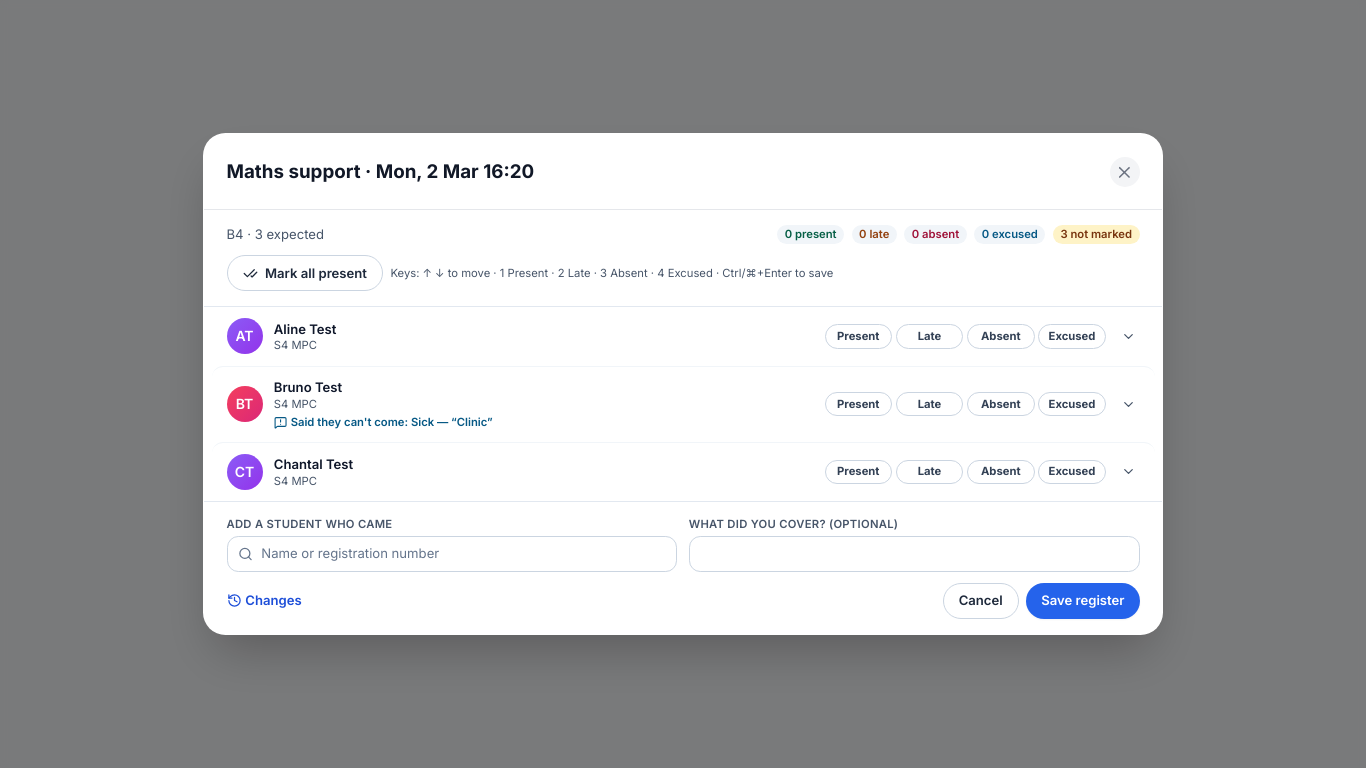
Test case: office-hours register › adds a walk-in as a present drop-in
Check: the text "Aline Test" is shown, box [274,320,336,336]
Type "Wa" into the field labelled "Add a student who came" at [452, 554], box [226,536,677,572]
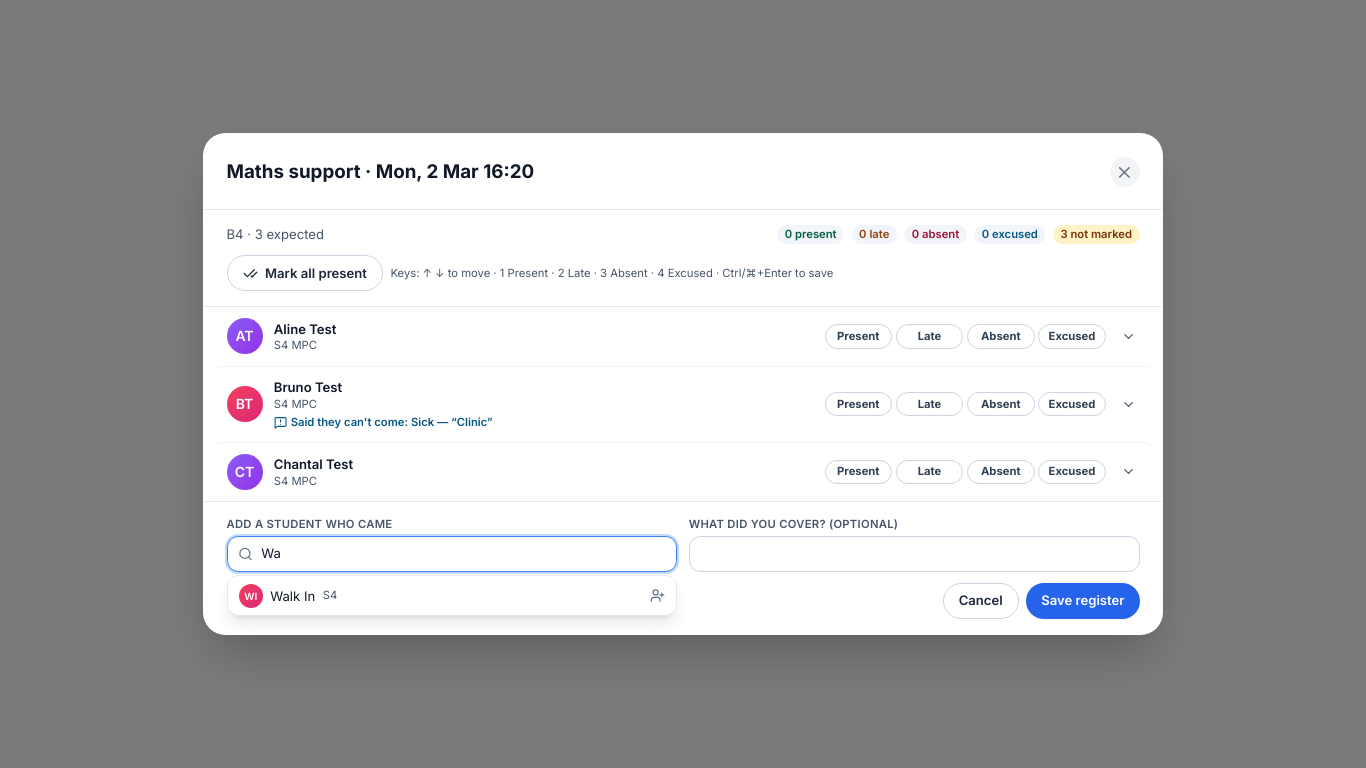
Click the button "WI Walk In S4" at [293, 596], box [228,576,676,615]
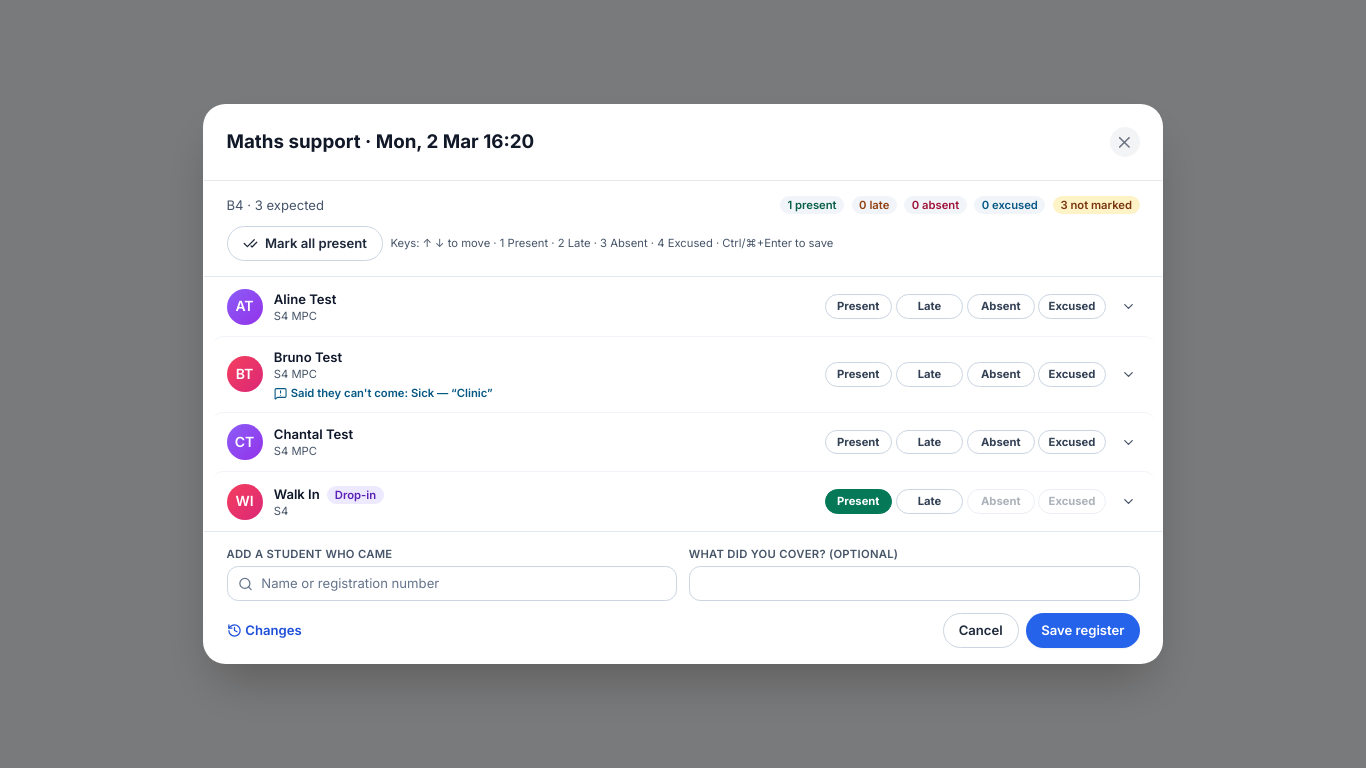
Check: the text "Drop-in" is shown, box [327,486,384,504]
Check: the radio button labelled "Absent" in the row of "Drop-in" is disabled, box [967,489,1034,514]
